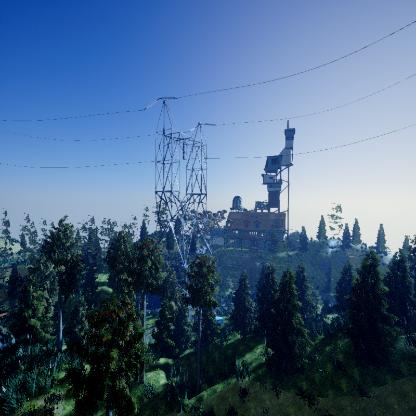tower: (142, 93, 218, 271)
